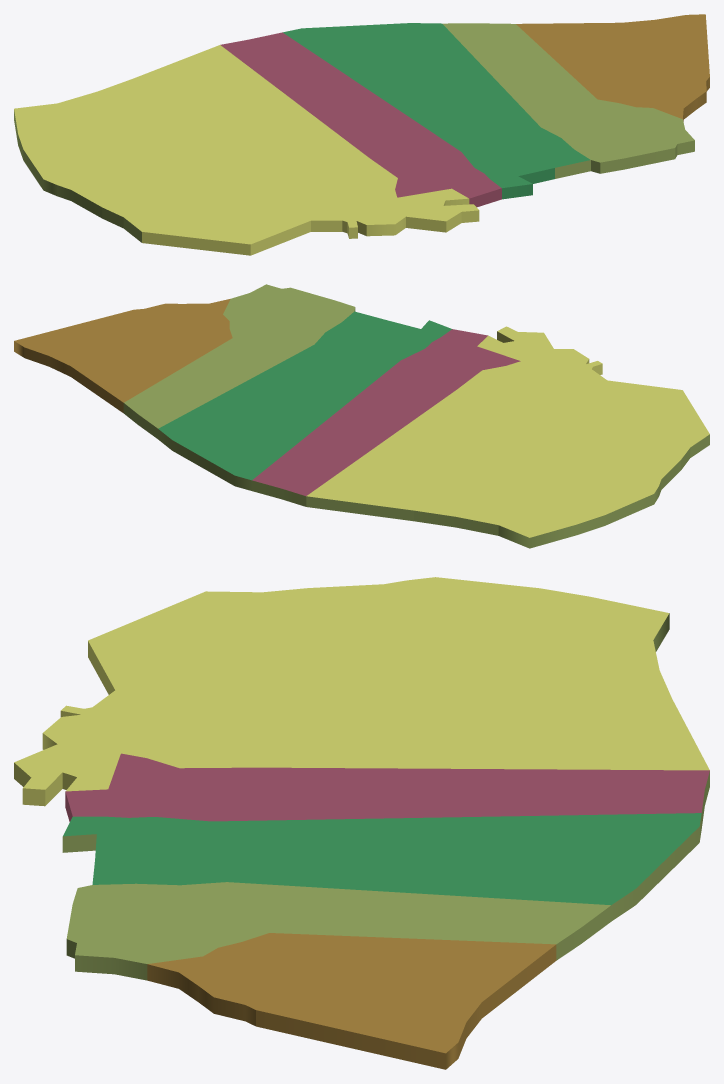
Rendered from theMainland.fbx.
3 views of the same model, one above another, from view 1: azimuth 30°, elevation 25°; view 2: azimuth 150°, elevation 25°; view 3: azimuth 270°, elevation 25° (orthographic). The views are drawn at different scales.
Parts seen in each view (by area): view 1: polySurface1; view 2: polySurface1; view 3: polySurface1.
Part boxes in pixels (box(x1,y1,x2,y2)): polySurface1: box(14, 14, 709, 255); polySurface1: box(14, 284, 709, 548); polySurface1: box(14, 577, 709, 1069).
Bounding box in the file's own units: 0.1305 × 0.0021 × 0.0806.
